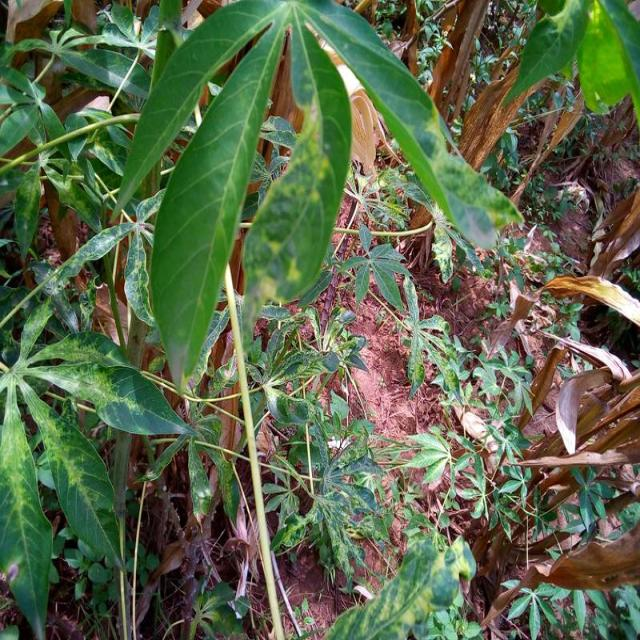cassava leaf: (112, 0, 524, 396), (147, 1, 287, 396)
